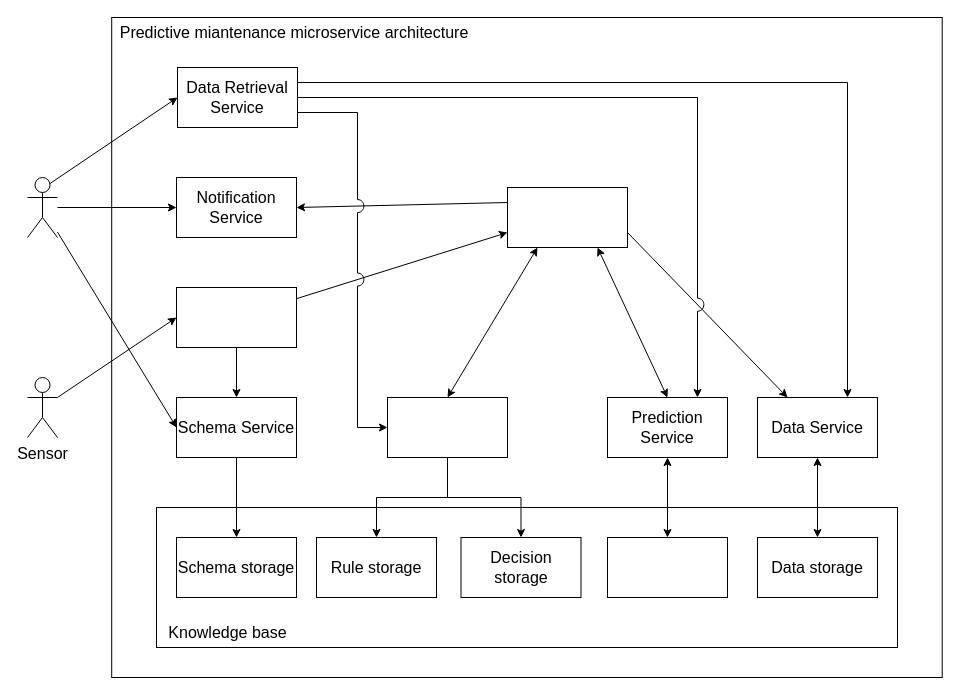
The diagram is 960 pixels wide and 695 high, and some of its shapes have lost their labels. The centre of each missing label's shape, as x and y in pixels:
"Data Entry Service" goes at (x=236, y=317).
"Event Processing Service" goes at (x=447, y=427).
"Message broker" goes at (x=567, y=217).
"Prediction storage" goes at (x=667, y=567).
"User" goes at (x=42, y=207).
